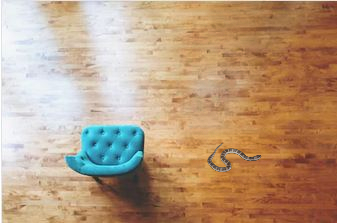snake: (206, 141, 263, 173)
